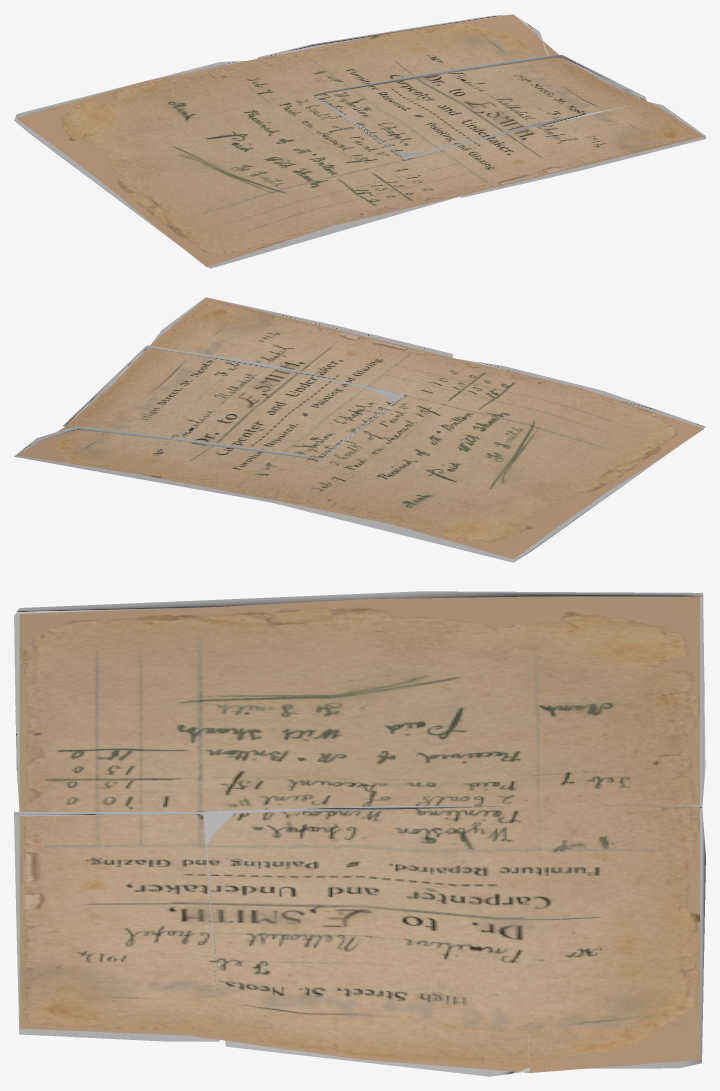
Rendered from SM_Paper_05.gltf.
3 views of the same model, one above another, from view 1: azimuth 30°, elevation 25°; view 2: azimuth 150°, elevation 25°; view 3: azimuth 270°, elevation 25° (orthographic). The views are drawn at different scales.
Visible parts, largest first — view 1: SM_Paper_05_LOD0, SM_Paper_05_ConvexHulls; view 2: SM_Paper_05_LOD0, SM_Paper_05_ConvexHulls; view 3: SM_Paper_05_LOD0, SM_Paper_05_ConvexHulls.
Boxes of the visible parts, bbox=[...] form: SM_Paper_05_LOD0: bbox=[16, 14, 703, 266]; SM_Paper_05_ConvexHulls: bbox=[14, 15, 705, 268]; SM_Paper_05_LOD0: bbox=[16, 298, 703, 559]; SM_Paper_05_ConvexHulls: bbox=[14, 297, 705, 562]; SM_Paper_05_LOD0: bbox=[19, 596, 699, 1072]; SM_Paper_05_ConvexHulls: bbox=[14, 591, 705, 1076].
Size of what is drawn, in the model's own units: 0.4958 by 0.0315 by 0.3319.
